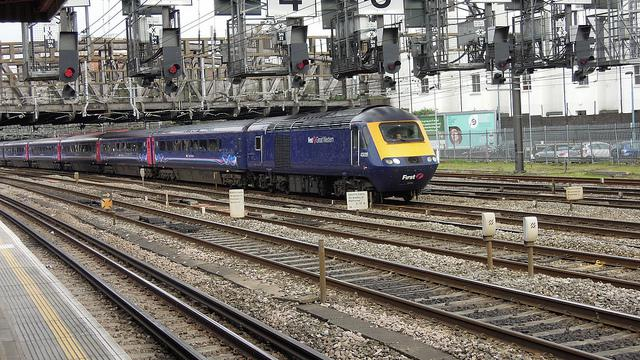Train: (0, 107, 444, 205)
